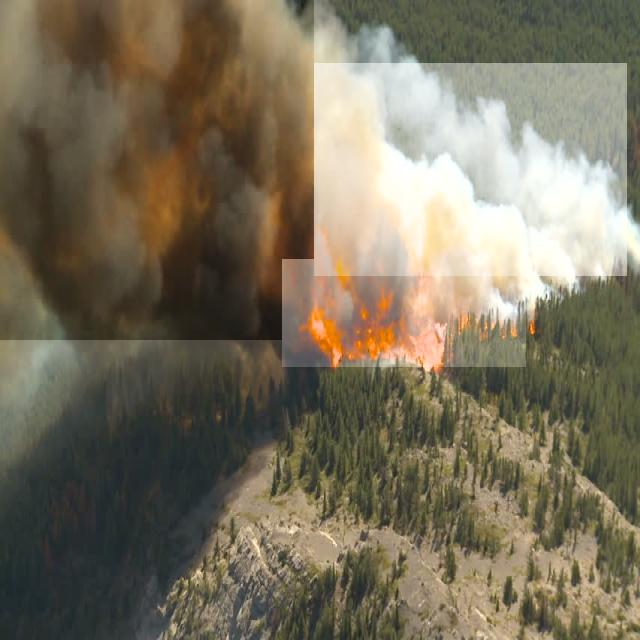Fire: (282, 259, 526, 367)
Smoke: (0, 0, 314, 340), (314, 63, 627, 276)
